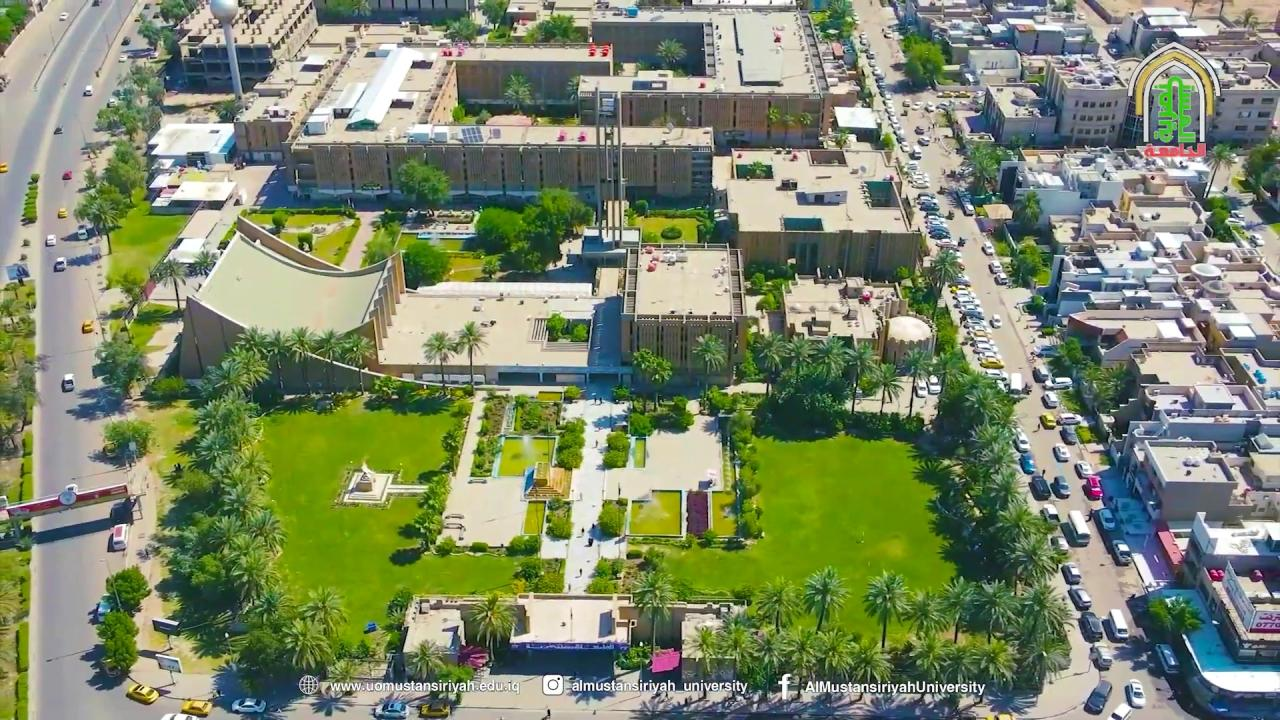car: (1084, 680, 1112, 715), (1078, 611, 1103, 643), (1155, 643, 1180, 674), (372, 700, 409, 720), (128, 683, 160, 704), (1124, 679, 1146, 709), (1088, 644, 1112, 671), (231, 697, 266, 715), (108, 524, 130, 552), (1068, 586, 1092, 611), (181, 698, 213, 716), (418, 701, 450, 718), (1029, 476, 1051, 499), (1112, 541, 1132, 566), (1084, 475, 1104, 500), (1060, 563, 1082, 585), (97, 593, 116, 618), (1109, 702, 1133, 719), (1040, 504, 1060, 524), (1209, 696, 1230, 715), (1099, 508, 1116, 531), (1050, 535, 1070, 553), (314, 398, 335, 414), (1053, 443, 1070, 462), (1074, 461, 1093, 478), (60, 373, 74, 392), (161, 713, 202, 719), (52, 256, 66, 272), (81, 320, 94, 334), (76, 224, 88, 239), (1196, 39, 1208, 51), (45, 234, 56, 247), (57, 207, 67, 218), (83, 85, 93, 95), (106, 97, 116, 107), (61, 171, 72, 180), (59, 11, 68, 20), (121, 36, 130, 45), (53, 126, 63, 134)
fountain: (491, 432, 558, 479), (630, 487, 686, 539), (608, 432, 662, 472), (393, 229, 472, 254), (708, 491, 739, 541), (520, 498, 550, 538)
tree: (148, 338, 353, 696), (692, 564, 1076, 708), (210, 322, 374, 402), (473, 185, 594, 274), (1010, 580, 1076, 692), (719, 409, 763, 539), (705, 612, 760, 698), (72, 180, 134, 254), (630, 567, 678, 659), (223, 534, 280, 608), (861, 568, 912, 650), (225, 626, 282, 697), (200, 346, 270, 403), (92, 333, 148, 403), (1078, 360, 1127, 440), (469, 591, 517, 665), (801, 565, 851, 632), (967, 579, 1019, 643), (779, 625, 823, 698), (280, 616, 333, 676), (751, 574, 803, 632), (1147, 593, 1204, 645), (934, 575, 977, 643), (95, 609, 139, 675), (10, 351, 51, 420), (395, 158, 450, 209), (99, 417, 155, 467), (101, 140, 144, 202), (631, 347, 672, 410), (1002, 222, 1041, 288), (900, 32, 945, 89), (841, 341, 876, 414), (283, 325, 320, 394), (473, 205, 523, 256), (301, 585, 348, 639), (720, 481, 763, 540), (400, 240, 450, 290), (812, 624, 855, 682), (846, 637, 892, 691), (901, 587, 947, 641), (104, 267, 148, 323), (380, 586, 413, 660), (691, 332, 727, 399), (421, 330, 458, 395), (453, 319, 489, 385), (860, 360, 904, 414), (1242, 138, 1279, 202), (416, 472, 452, 537), (553, 427, 585, 498), (104, 564, 151, 612), (765, 102, 813, 149), (150, 255, 188, 314), (902, 347, 934, 417), (754, 330, 789, 394), (340, 332, 375, 395), (965, 143, 1004, 197), (1201, 141, 1236, 199), (811, 0, 856, 45), (535, 185, 578, 229), (811, 334, 850, 381), (405, 637, 443, 682), (264, 328, 292, 389), (316, 326, 343, 388), (784, 332, 817, 379), (929, 247, 962, 293), (439, 420, 466, 476), (626, 412, 653, 467), (359, 227, 395, 267), (419, 168, 451, 210), (1016, 241, 1043, 289), (585, 556, 619, 594), (502, 73, 533, 114), (411, 509, 442, 549), (136, 18, 170, 53), (470, 436, 499, 475), (544, 12, 579, 44), (158, 0, 198, 27), (596, 501, 625, 537), (602, 430, 629, 468), (655, 38, 687, 70), (443, 15, 477, 44), (545, 504, 573, 539), (476, 0, 508, 30), (191, 240, 217, 276), (668, 395, 695, 428), (1021, 188, 1042, 228), (566, 74, 583, 119), (21, 179, 38, 223), (479, 252, 504, 280), (544, 312, 567, 342), (332, 0, 371, 17), (757, 291, 780, 316), (879, 132, 895, 166), (270, 208, 289, 236), (796, 110, 812, 142), (766, 104, 780, 138), (296, 231, 315, 252), (610, 383, 629, 403), (562, 385, 582, 403)
